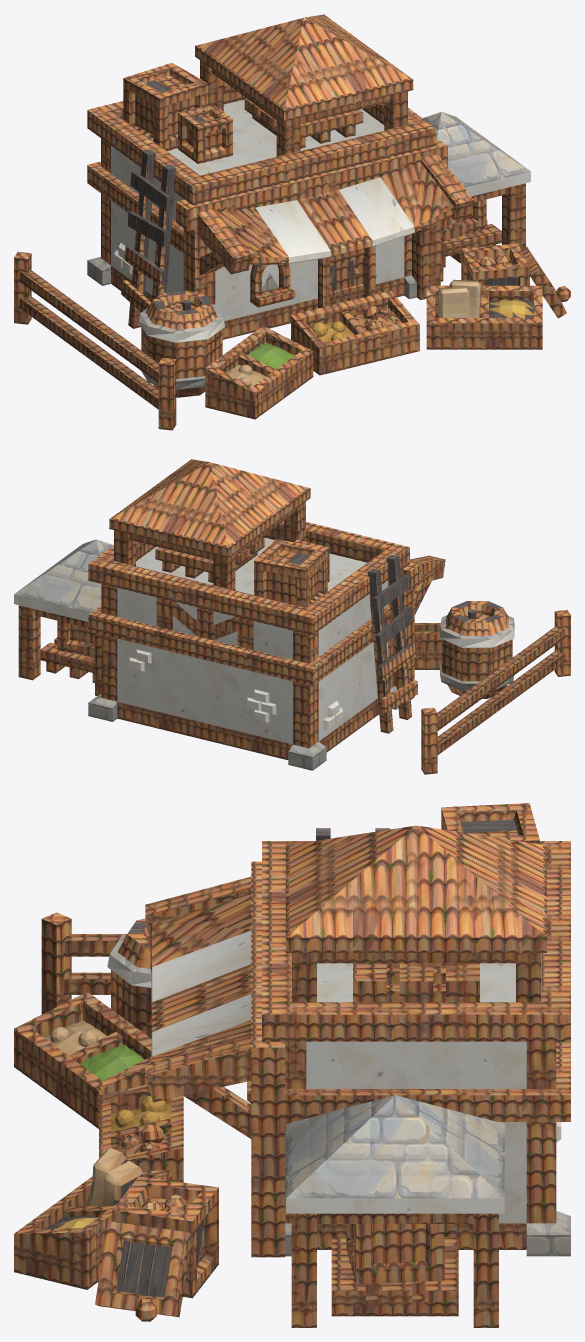
The model's file is building_market_red.gltf.
The picture shows the model from 3 angles, top to bottom: view 1: azimuth 30°, elevation 25°; view 2: azimuth 150°, elevation 25°; view 3: azimuth 270°, elevation 25°; orthographic projection. The views are drawn at different scales.
Parts seen in each view (by area): view 1: building_market_red; view 2: building_market_red; view 3: building_market_red.
Boxes of the visible parts, <box> form: building_market_red: <box>14,14,570,430</box>; building_market_red: <box>14,459,570,774</box>; building_market_red: <box>14,803,570,1327</box>.
Bounding box in the file's own units: 1.8 × 0.9816 × 1.32.
20 materials, 4 textured.
